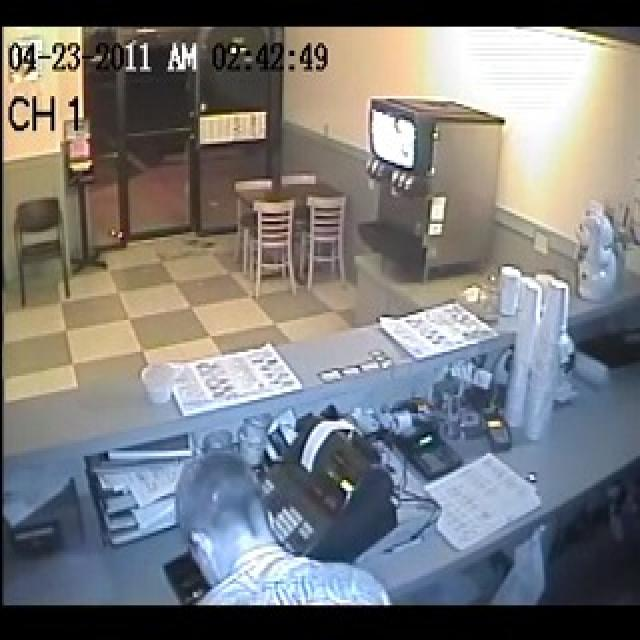thief: (164, 445, 400, 605)
